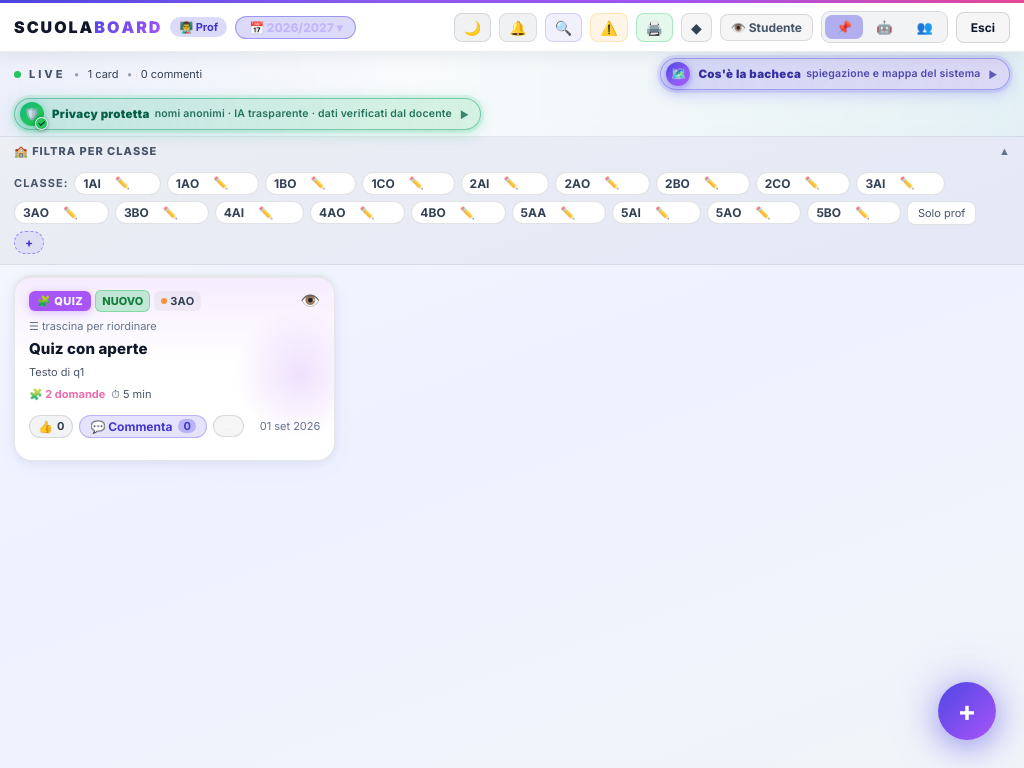
Test: Valutazione quiz lato prof › valuta le risposte aperte con AI e aggiorna punteggi e aiScores
The image size is (1024, 768).
Click the text "Quiz con aperte" at (88, 348), box [29,338,148,358]
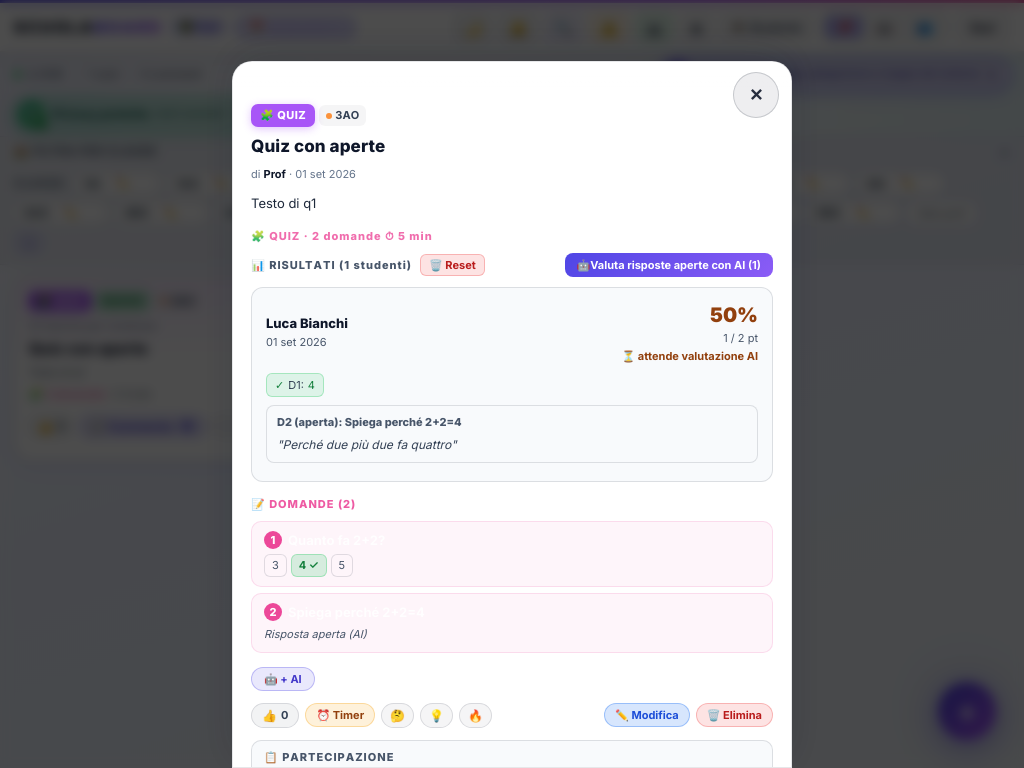
expect the text "📊 RISULTATI (1 studenti)" is shown: met, box [251,257,412,273]
Click the button "🤖Valuta risposte aperte con AI (1)" at (669, 265), box [565,253,773,277]
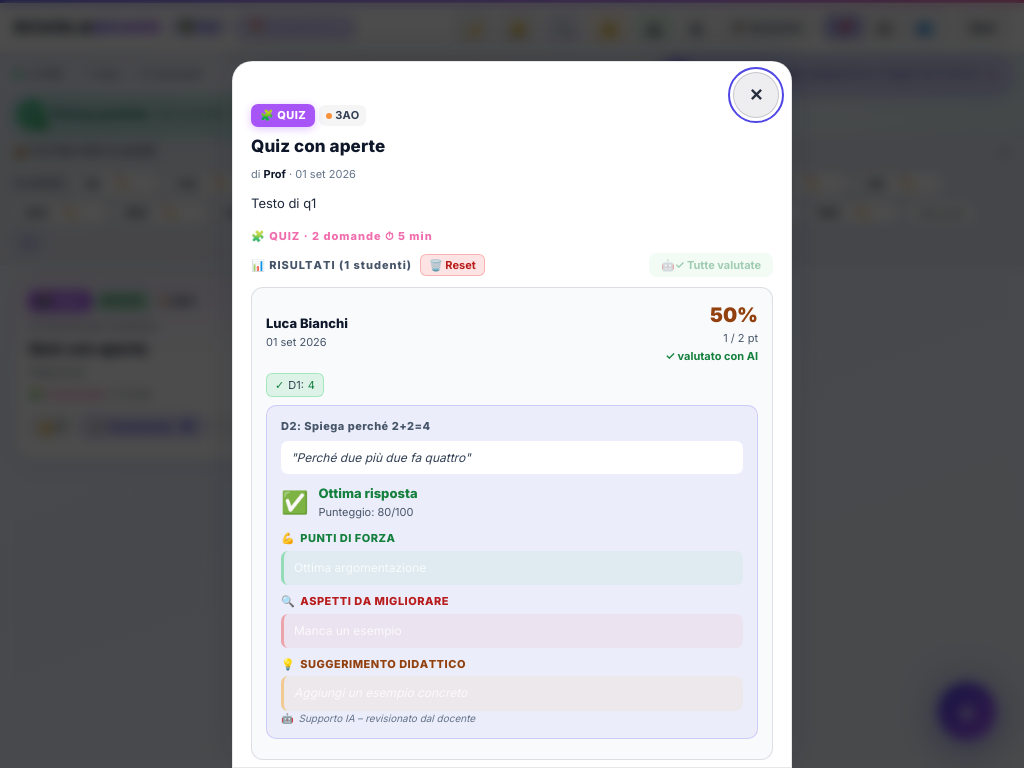
expect the button "🤖✓ Tutte valutate" is shown: met, box [649,253,773,277]
